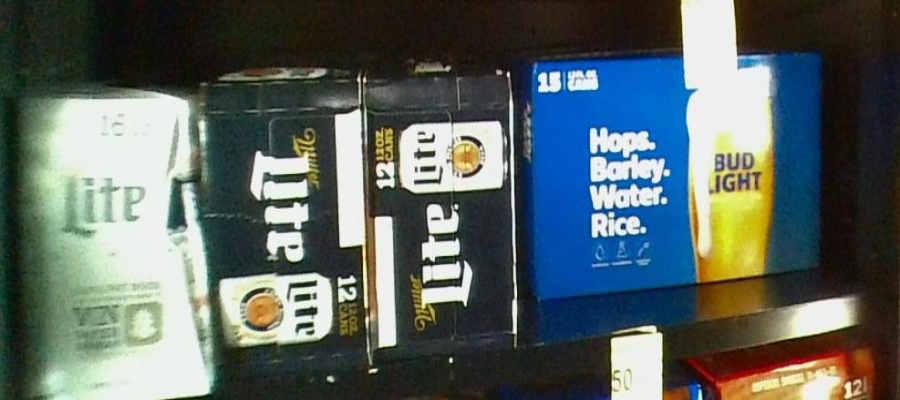bottle: (528, 52, 823, 281), (5, 92, 213, 397), (200, 78, 367, 373), (365, 68, 519, 352)
